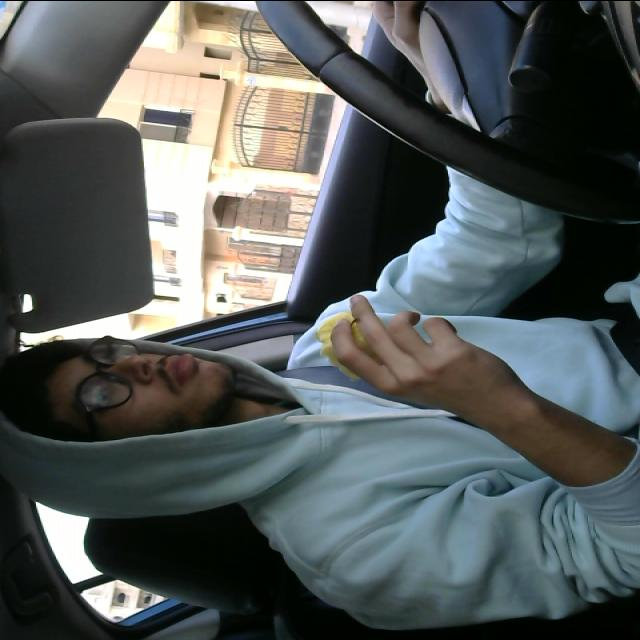eating: (298, 301, 380, 385)
